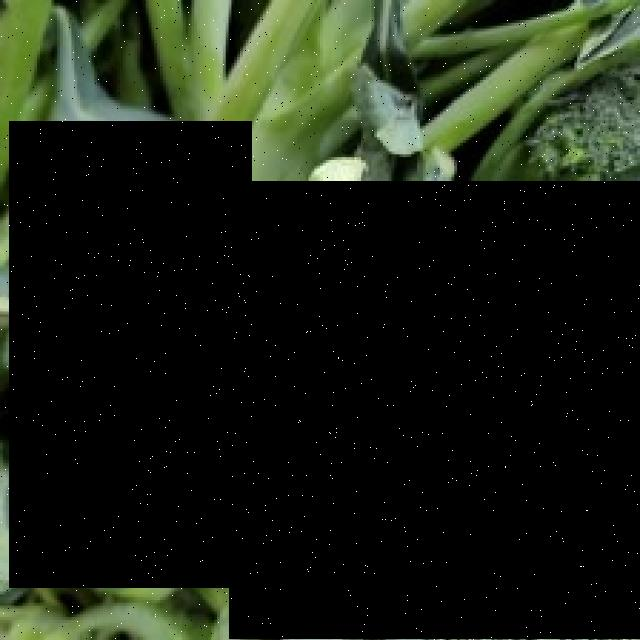Broccoli: (229, 182, 640, 640), (10, 122, 253, 589)
